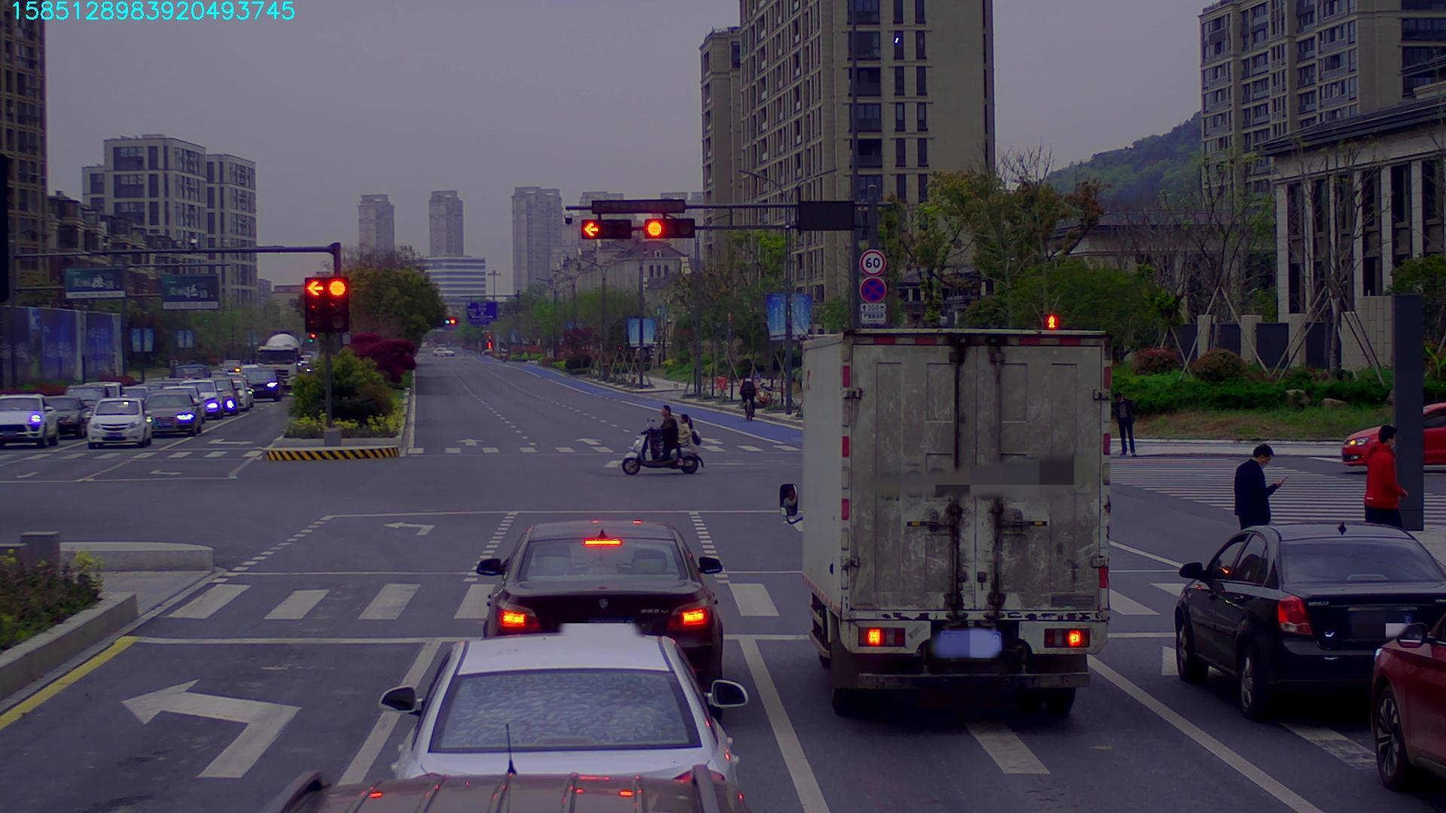red: (578, 220, 627, 244), (645, 221, 696, 238)
